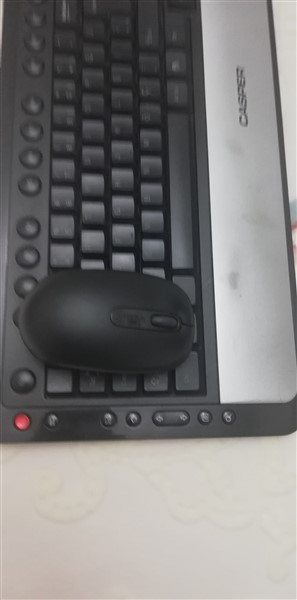klavye: (2, 1, 295, 441)
mouse: (19, 261, 199, 376)
